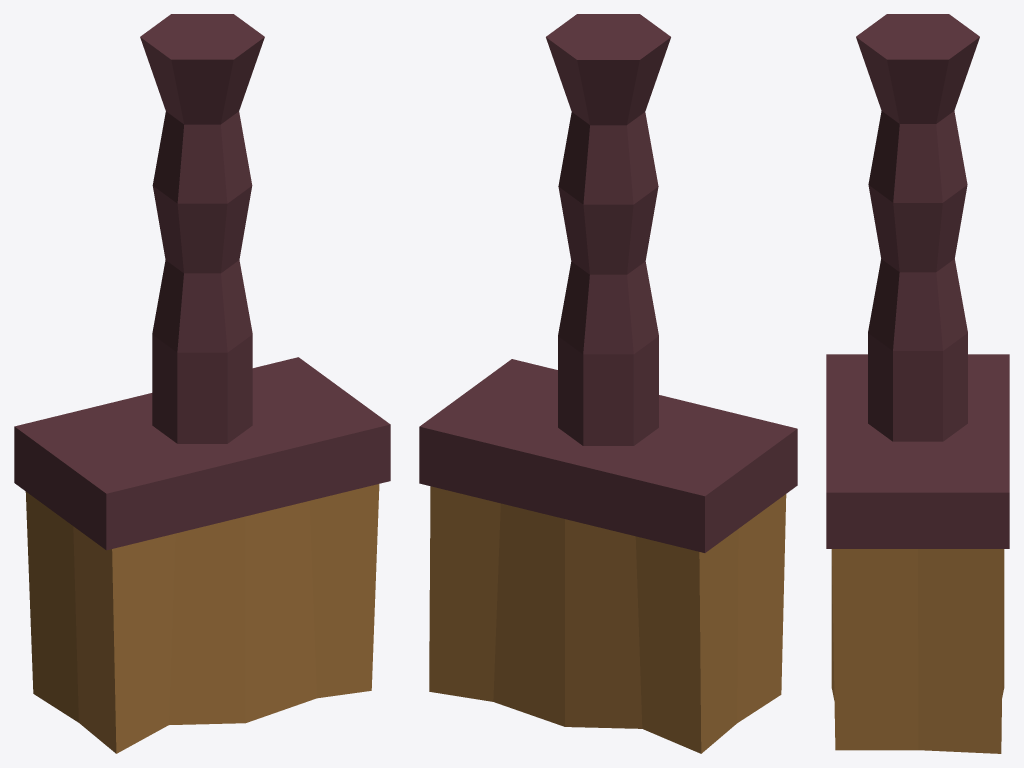
File: tools-brush-square.glb
3 views of the same model, side by side, from view 1: azimuth 30°, elevation 25°; view 2: azimuth 150°, elevation 25°; view 3: azimuth 270°, elevation 25° (orthographic).
Visible parts, largest first — view 1: brush-square; view 2: brush-square; view 3: brush-square.
Part boxes in pixels (x1,y1,x2,y2): brush-square: (14,14,390,753); brush-square: (419,14,797,753); brush-square: (826,14,1009,753).
Bounding box in the file's own units: 0.096 × 0.2114 × 0.0538.
